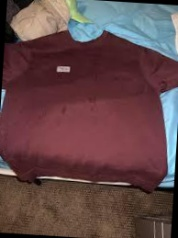oil: (86, 91, 99, 113), (61, 103, 70, 117)
